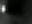person: (2, 4, 8, 15)
